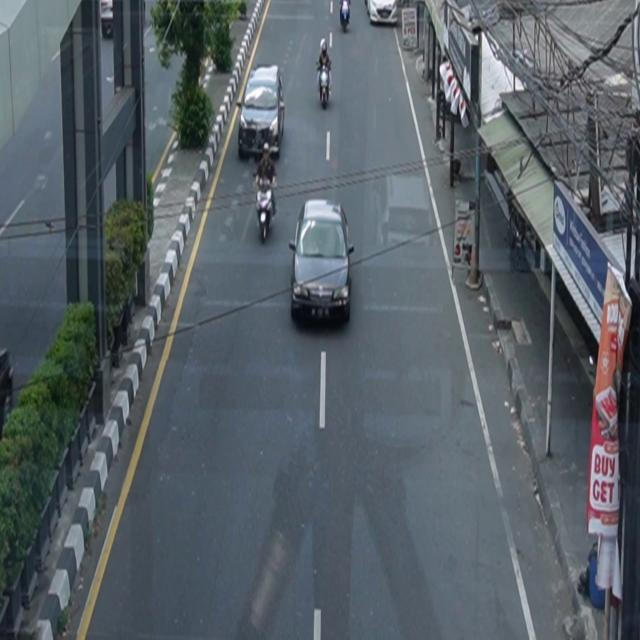car: (290, 199, 355, 326), (237, 65, 286, 162), (366, 1, 398, 26)
